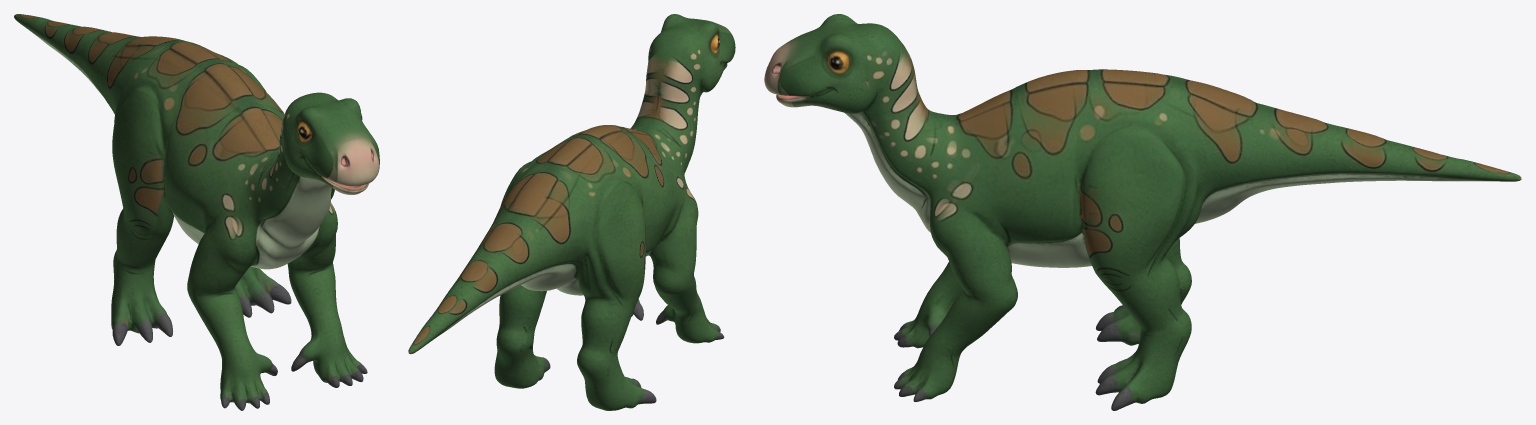
The model's file is I-iguanodonte.glb.
3 renders of one model, left to right at view 1: azimuth 30°, elevation 25°; view 2: azimuth 150°, elevation 25°; view 3: azimuth 270°, elevation 25°, orthographic. The views are drawn at different scales.
Bounding box in the file's own units: 0.5514 × 0.9423 × 1.9.
1 material, 1 textured.
